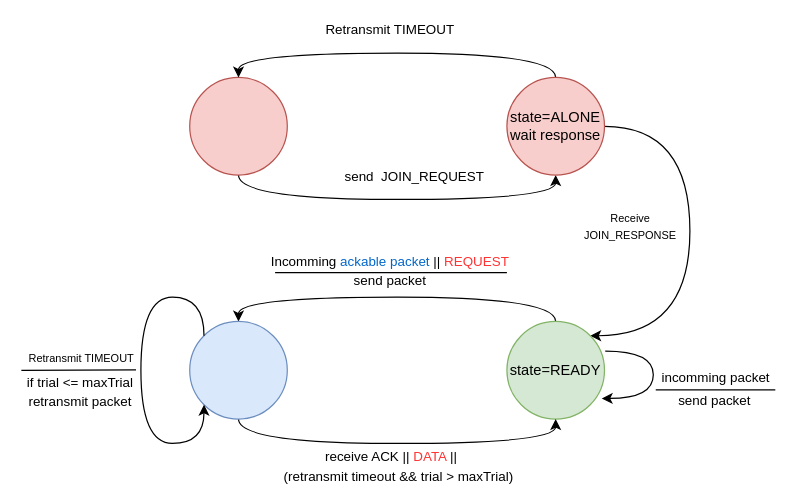
Some shapes in this 798 by 504 pixel diagram are drawn without their labels. Each missing label, with the box of its shape:
state= WAIT_RESPONSE: (188, 320, 287, 419)
state=ALONE: (188, 76, 287, 175)
